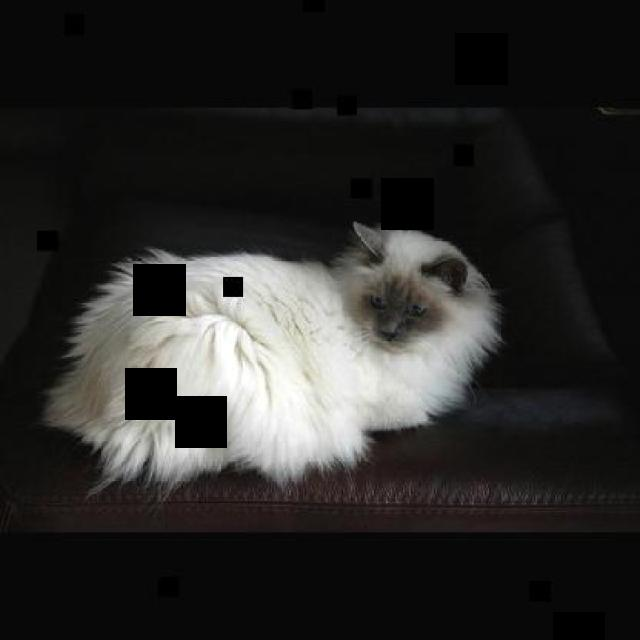unauthorized: (38, 218, 504, 504)
